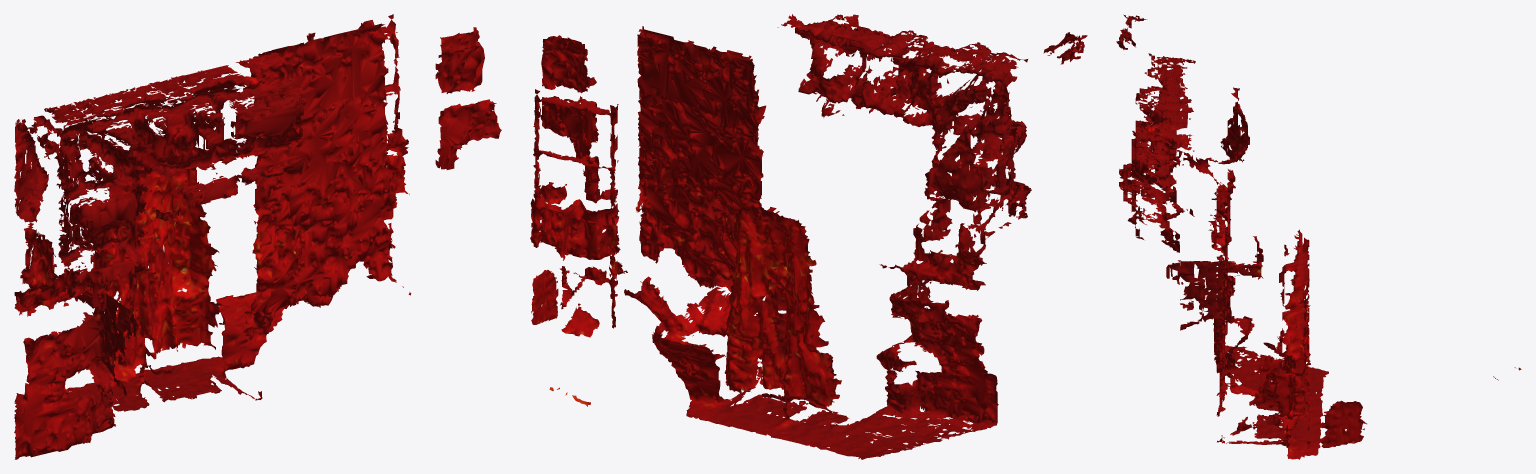
Rendered from mesh_iter_0001.obj.
3 views of the same model, side by side, from view 1: azimuth 30°, elevation 25°; view 2: azimuth 150°, elevation 25°; view 3: azimuth 270°, elevation 25° (orthographic). The views are drawn at different scales.
Bounding box in the file's own units: 3.01 × 2.16 × 2.46.
